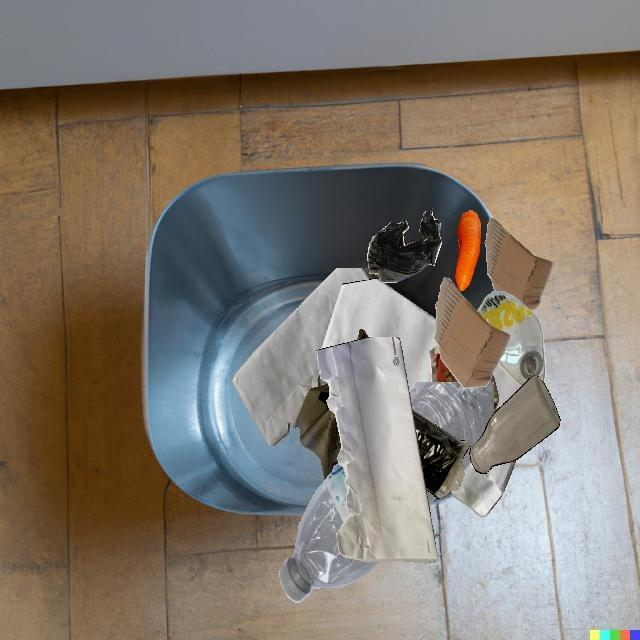biowaste: (455, 210, 481, 291)
cardboard: (434, 277, 511, 389), (484, 218, 553, 310)
glass: (470, 375, 560, 474), (477, 290, 545, 387)
paper: (316, 337, 438, 563), (232, 268, 372, 446), (318, 363, 465, 490), (321, 278, 422, 372), (295, 384, 341, 480), (429, 346, 458, 382)
plastic: (279, 489, 379, 602), (409, 382, 494, 461), (367, 208, 442, 282), (412, 410, 470, 498)
